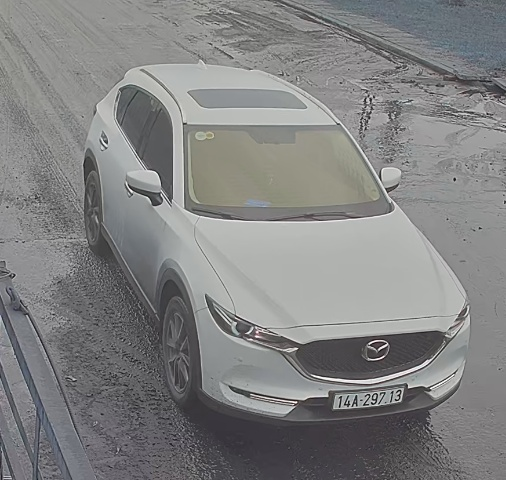vehicle plate: (330, 385, 407, 409)
